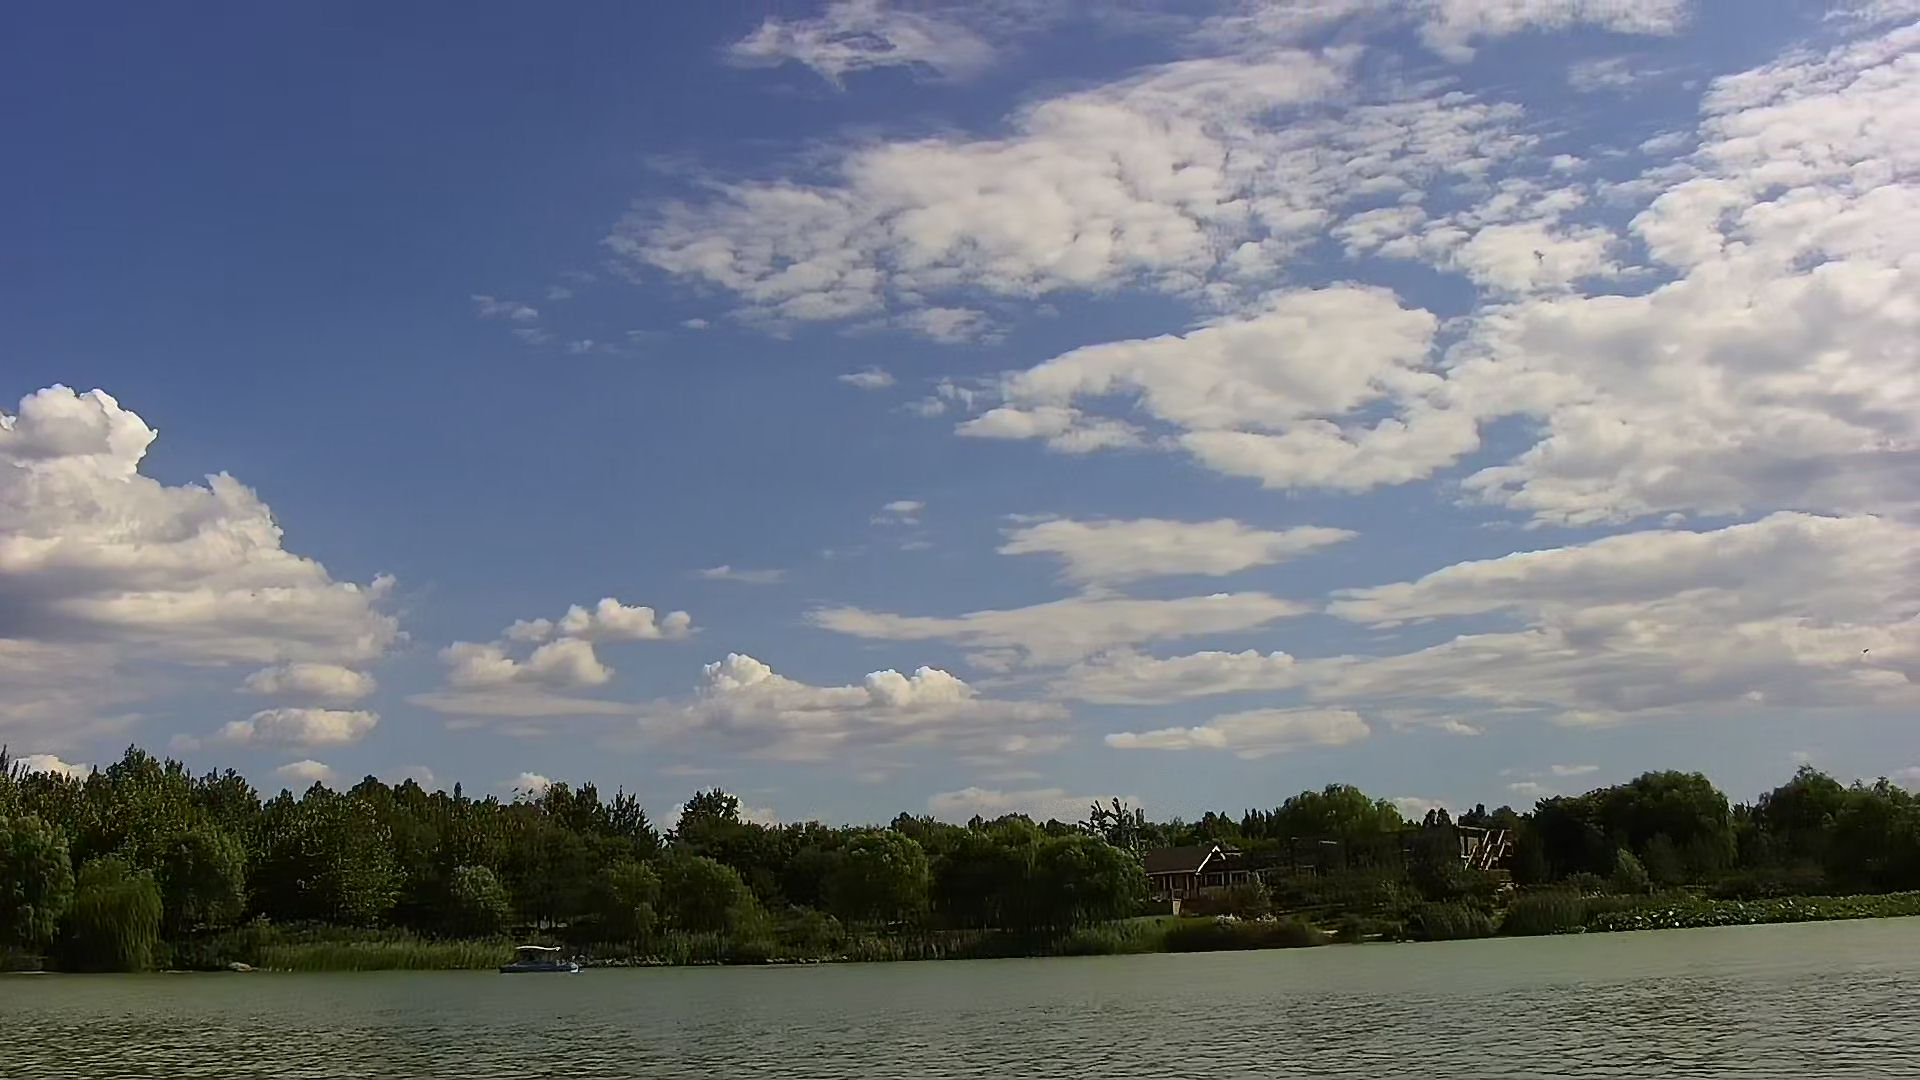boat: (496, 944, 582, 980)
